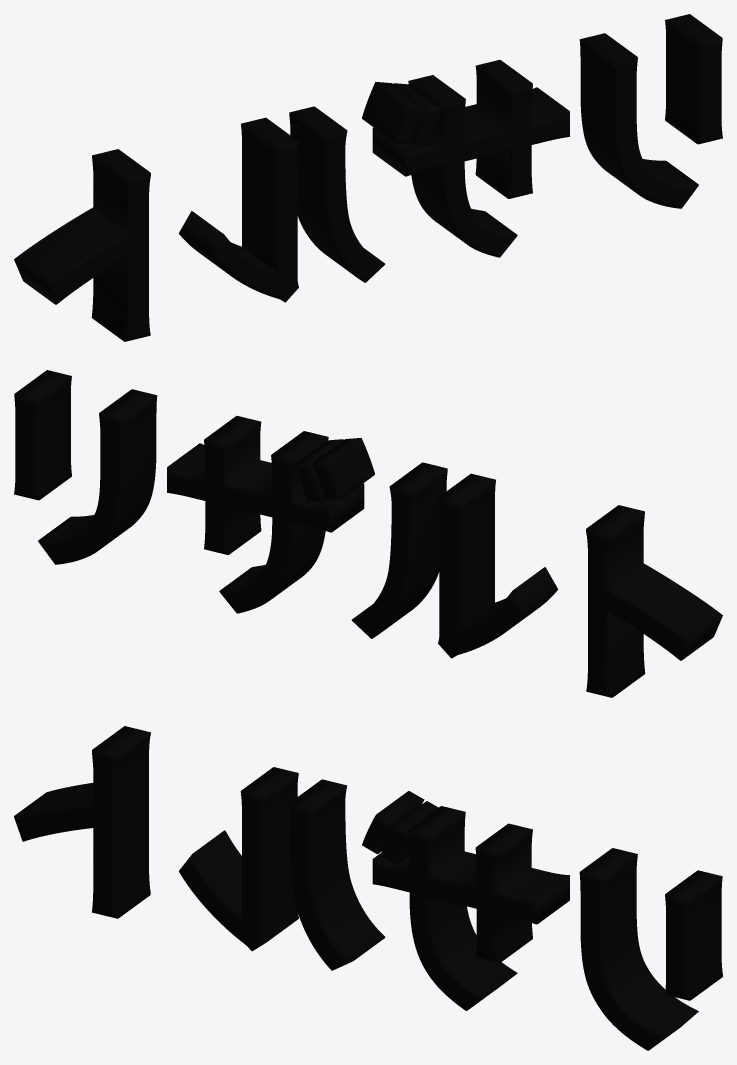
The model's file is clear.obj.
3 renders of one model, top to bottom at view 1: azimuth 30°, elevation 25°; view 2: azimuth 150°, elevation 25°; view 3: azimuth 330°, elevation 25°, orthographic.
Visible parts, largest first — view 1: テキスト.007; view 2: テキスト.007; view 3: テキスト.007.
Boxes of the visible parts, x1,y1,x2,y2 form: テキスト.007: [14, 14, 722, 341]; テキスト.007: [14, 370, 722, 697]; テキスト.007: [14, 726, 722, 1050].
Size of the model in its own units: 3.68 by 0.905 by 0.34.
